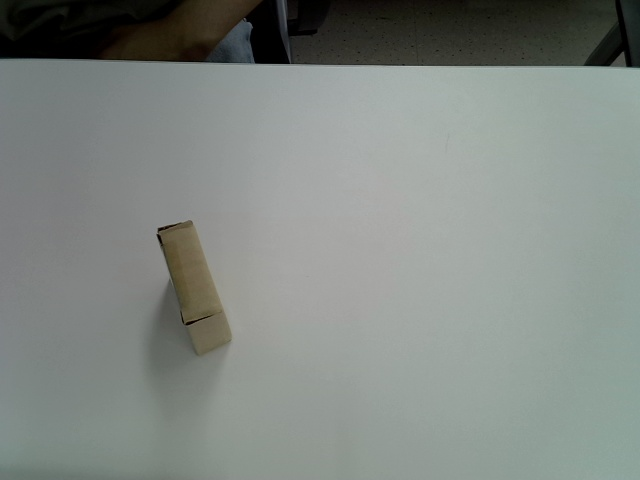normal: (156, 220, 234, 356)
